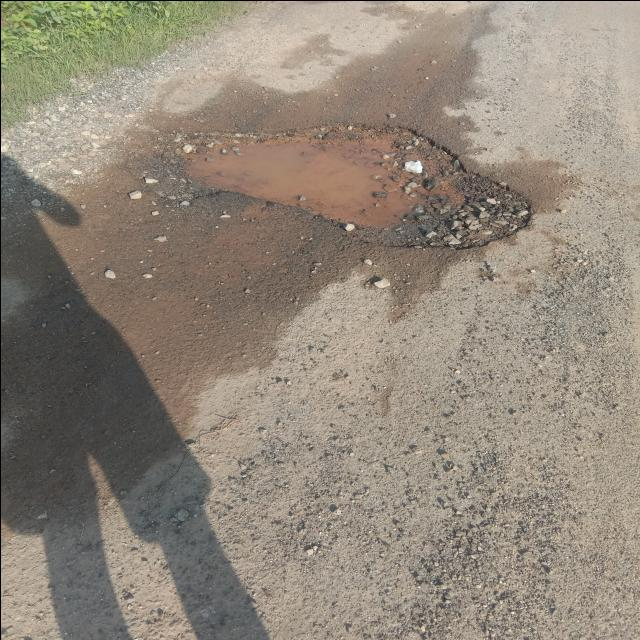potholes: (145, 113, 536, 251)
